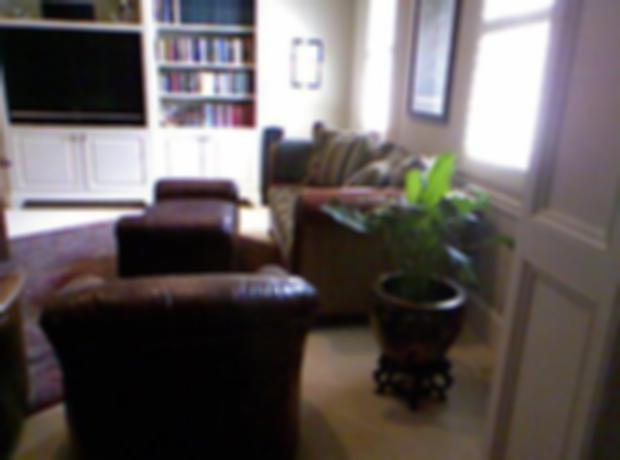Matera: (321, 159, 498, 412)
